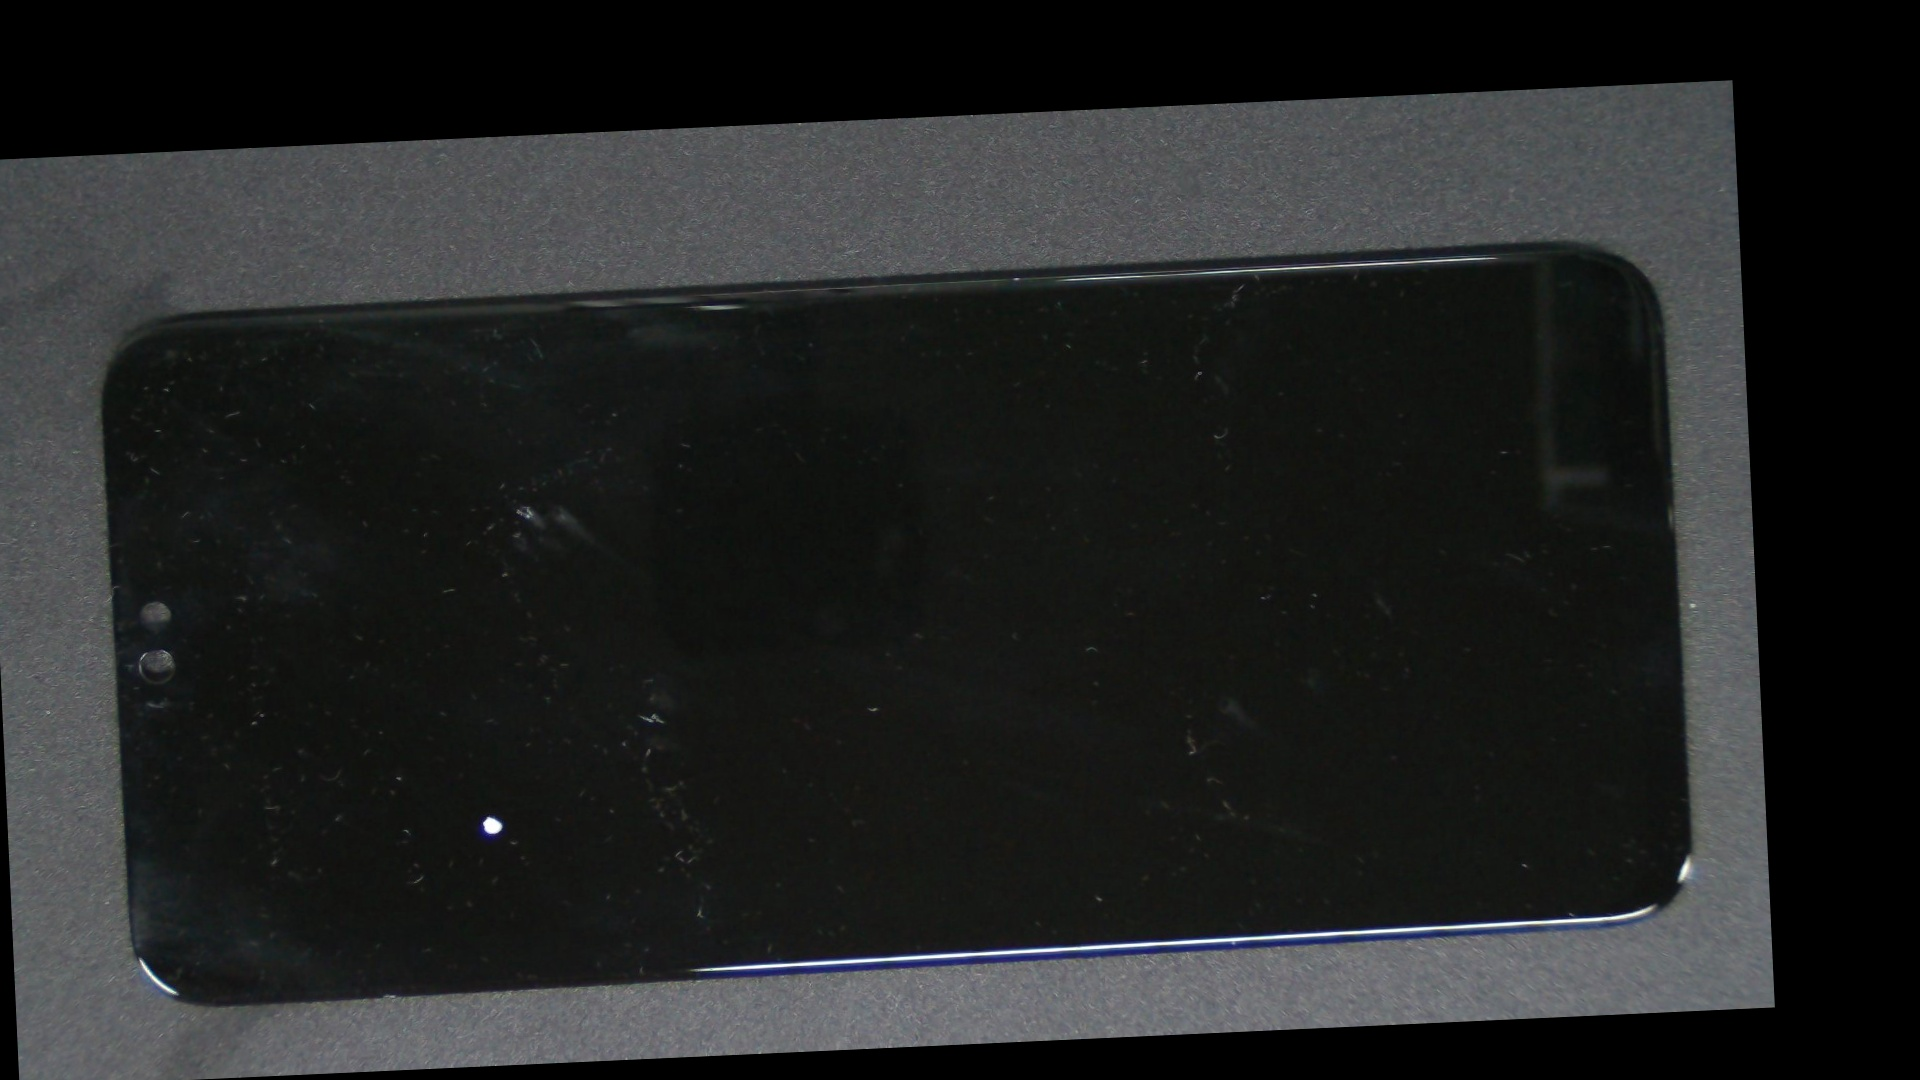oil: (233, 465, 742, 1076), (249, 309, 790, 704)
